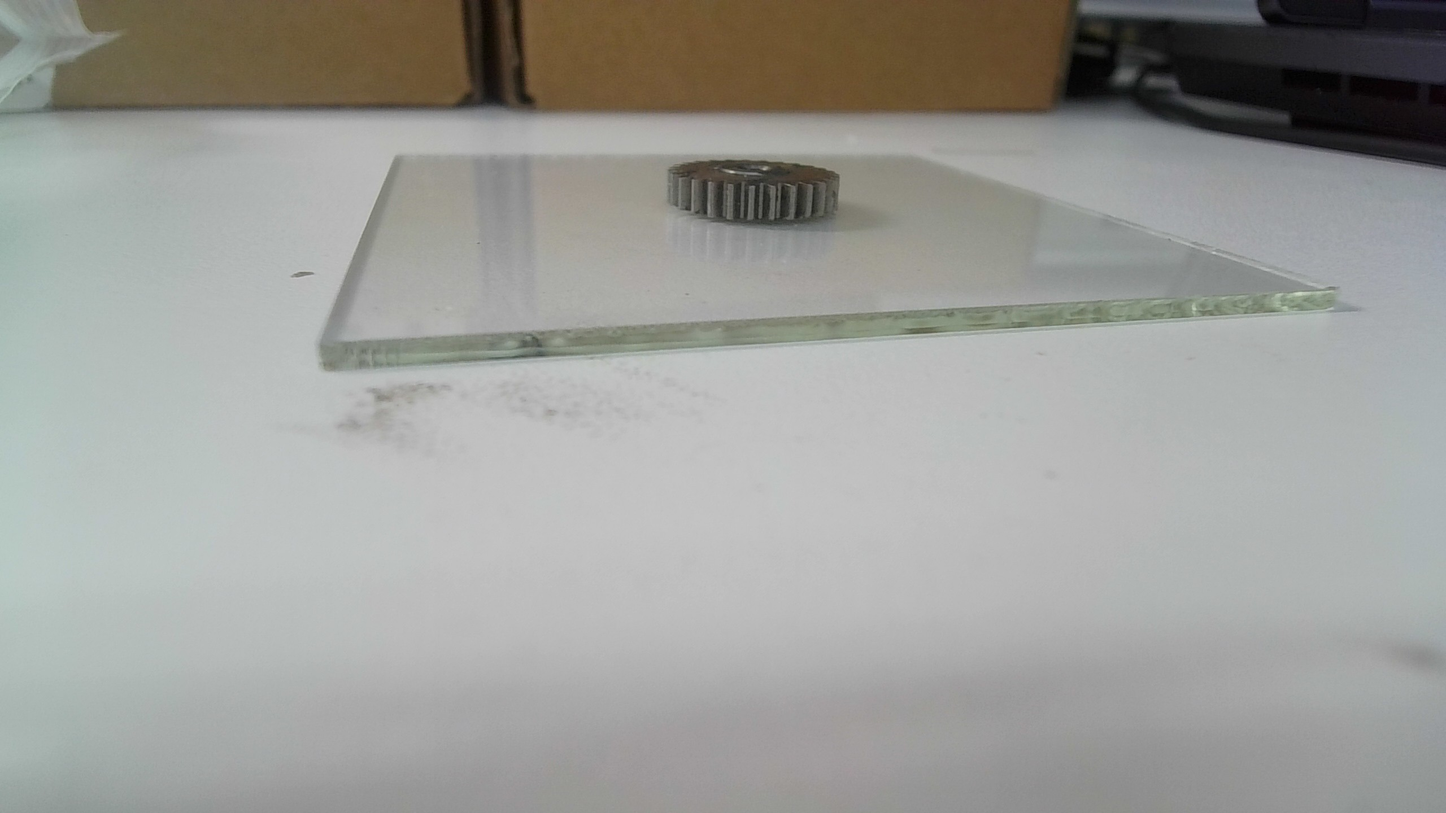gear: (662, 158, 844, 224)
